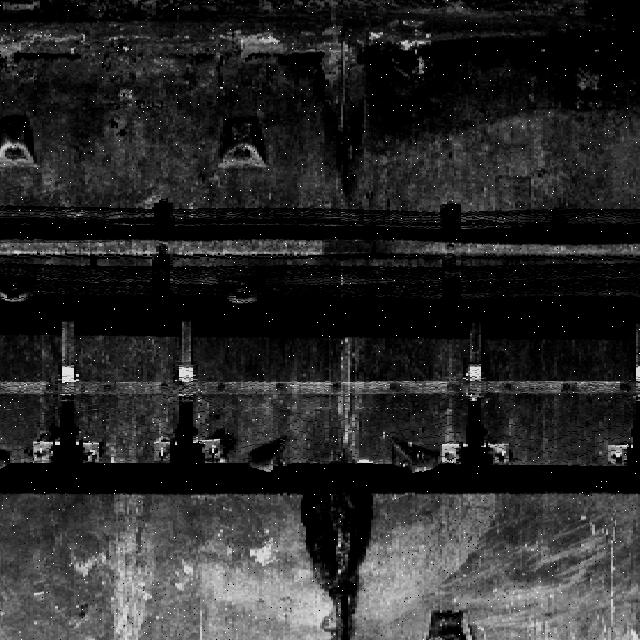leakage: (282, 3, 640, 198), (302, 473, 392, 639)
